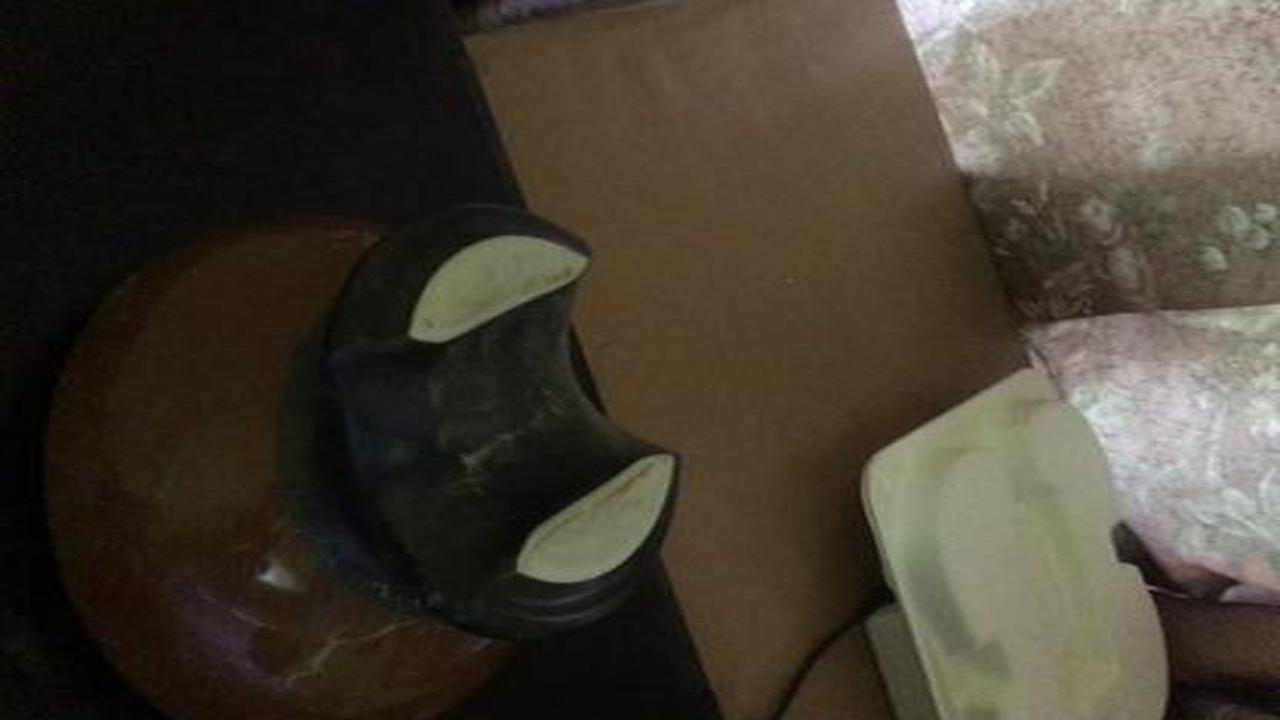insulator_pin: (21, 211, 693, 719)
